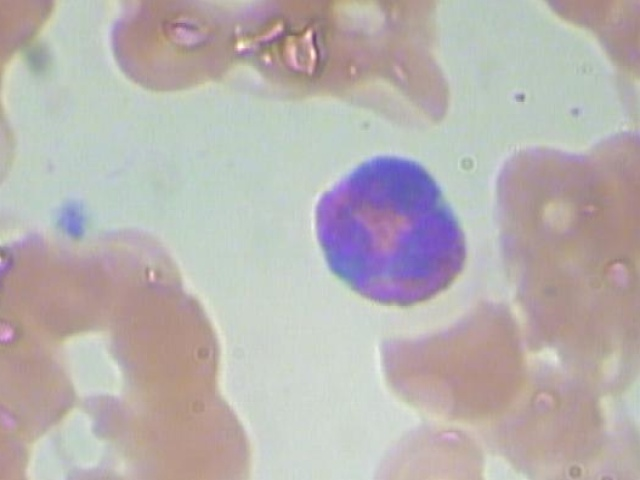Platelets: (50, 189, 106, 239)
RBC: (360, 296, 540, 425), (108, 270, 230, 405), (484, 132, 611, 260), (97, 0, 240, 103), (137, 378, 259, 480), (552, 254, 640, 389), (334, 45, 467, 128), (0, 326, 84, 451), (366, 402, 489, 480), (595, 30, 640, 158), (595, 0, 640, 101), (0, 74, 33, 201), (522, 0, 640, 33), (45, 456, 154, 480), (0, 439, 55, 480)
WBC: (288, 140, 478, 325)
